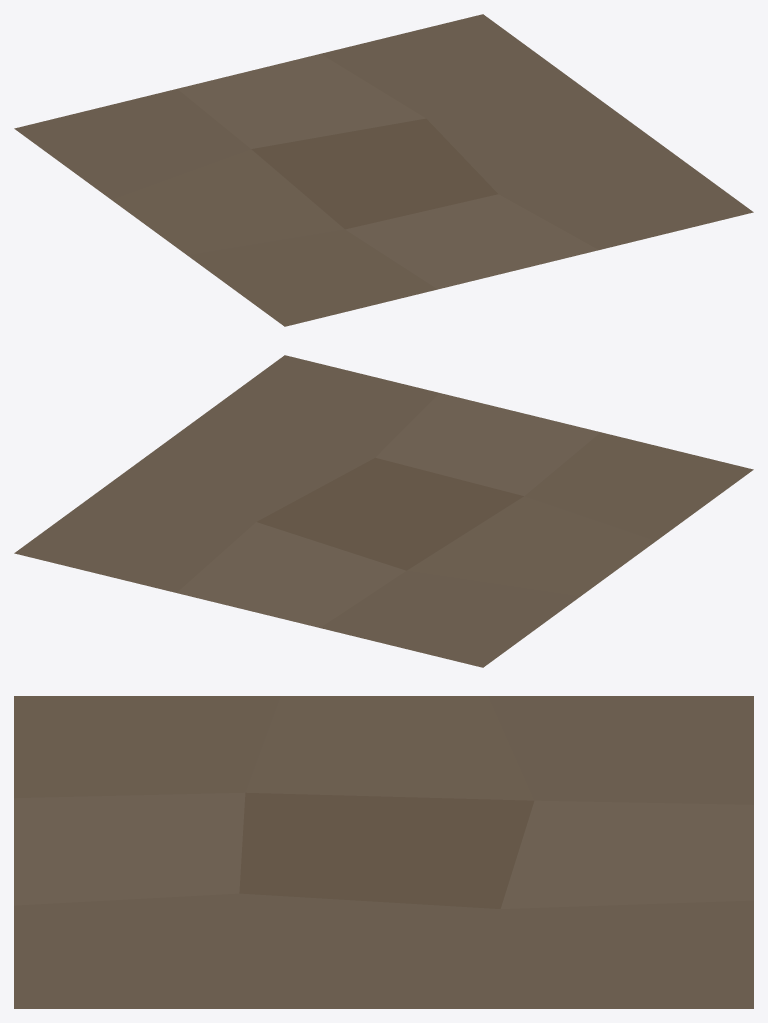
Rendered from floor_dirt_4m.glb.
3 views of the same model, one above another, from view 1: azimuth 30°, elevation 25°; view 2: azimuth 150°, elevation 25°; view 3: azimuth 270°, elevation 25° (orthographic). The views are drawn at different scales.
Visible parts, largest first — view 1: Body_floor_dirt_4m.001; view 2: Body_floor_dirt_4m.001; view 3: Body_floor_dirt_4m.001.
Boxes of the visible parts, left/top/right/bottom form: Body_floor_dirt_4m.001: left=14, top=14, right=753, bottom=326; Body_floor_dirt_4m.001: left=14, top=355, right=753, bottom=667; Body_floor_dirt_4m.001: left=14, top=696, right=753, bottom=1008.
Bounding box in the file's own units: 4 × 0 × 4.
